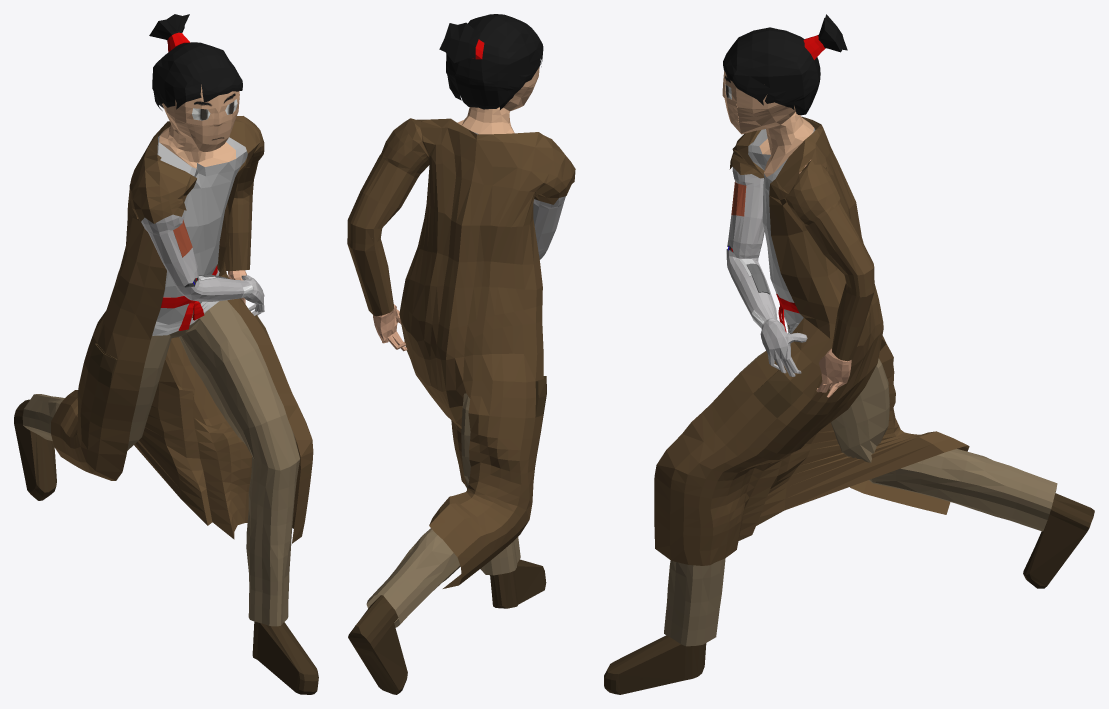
The model's file is One_RF_000014.obj.
3 renders of one model, left to right at view 1: azimuth 30°, elevation 25°; view 2: azimuth 150°, elevation 25°; view 3: azimuth 270°, elevation 25°, orthographic. The views are drawn at different scales.
Visible parts, largest first — view 1: Hair_Cube.004; view 2: Hair_Cube.004; view 3: Hair_Cube.004.
Part boxes in pixels (x1,y1,x2,y2): Hair_Cube.004: [14, 14, 318, 694]; Hair_Cube.004: [347, 14, 575, 694]; Hair_Cube.004: [604, 14, 1094, 694].
Size of the model in its own units: 1.1 by 3.78 by 2.57.
